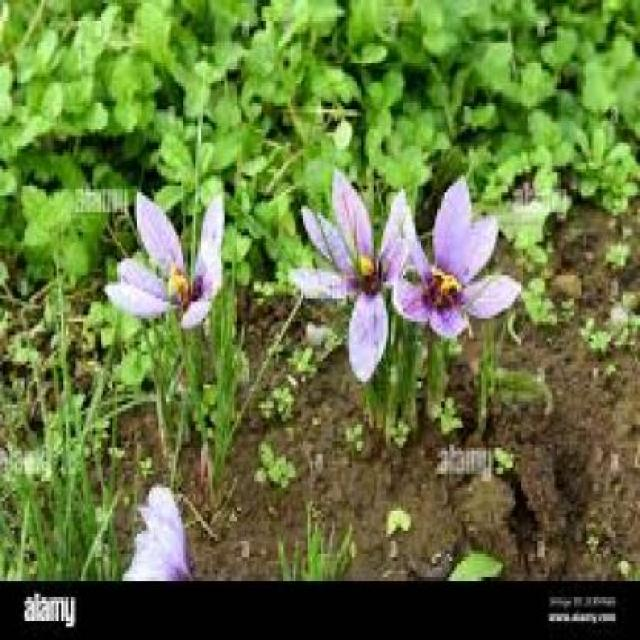saffron open: (294, 171, 416, 381), (392, 179, 520, 337), (109, 193, 223, 323)
